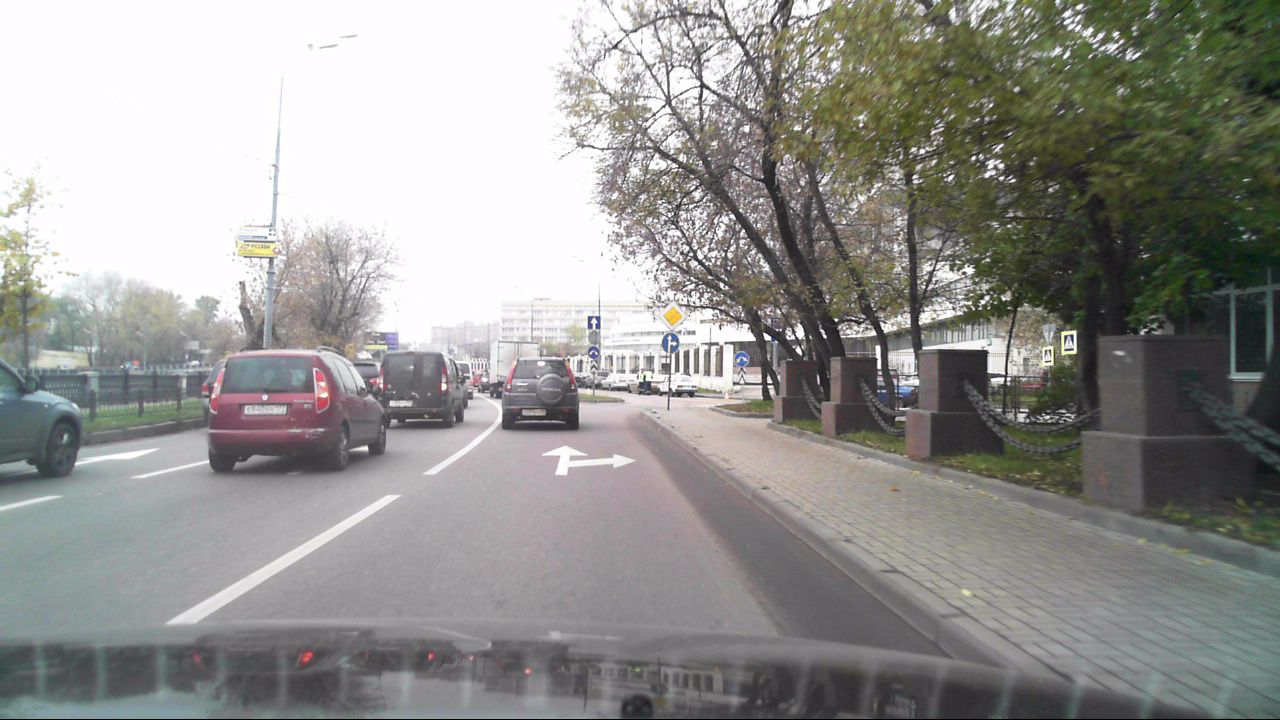main road: (658, 301, 686, 331)
